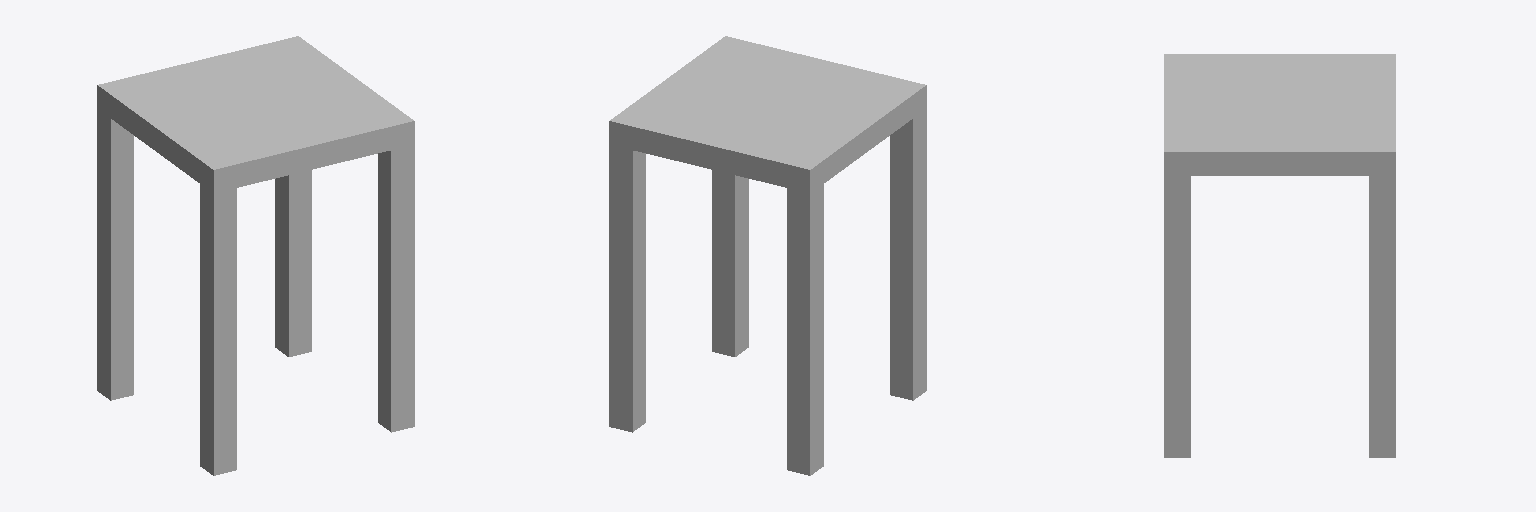
File: schair.obj
3 renders of one model, left to right at view 1: azimuth 30°, elevation 25°; view 2: azimuth 150°, elevation 25°; view 3: azimuth 270°, elevation 25°, orthographic.
Visible parts, largest first — view 1: pCube002; view 2: pCube002; view 3: pCube002.
Boxes of the visible parts, <box> form: pCube002: <box>97,36,414,475</box>; pCube002: <box>609,36,926,475</box>; pCube002: <box>1164,54,1395,457</box>.
Bounding box in the file's own units: 4.8 × 6.99 × 4.8.